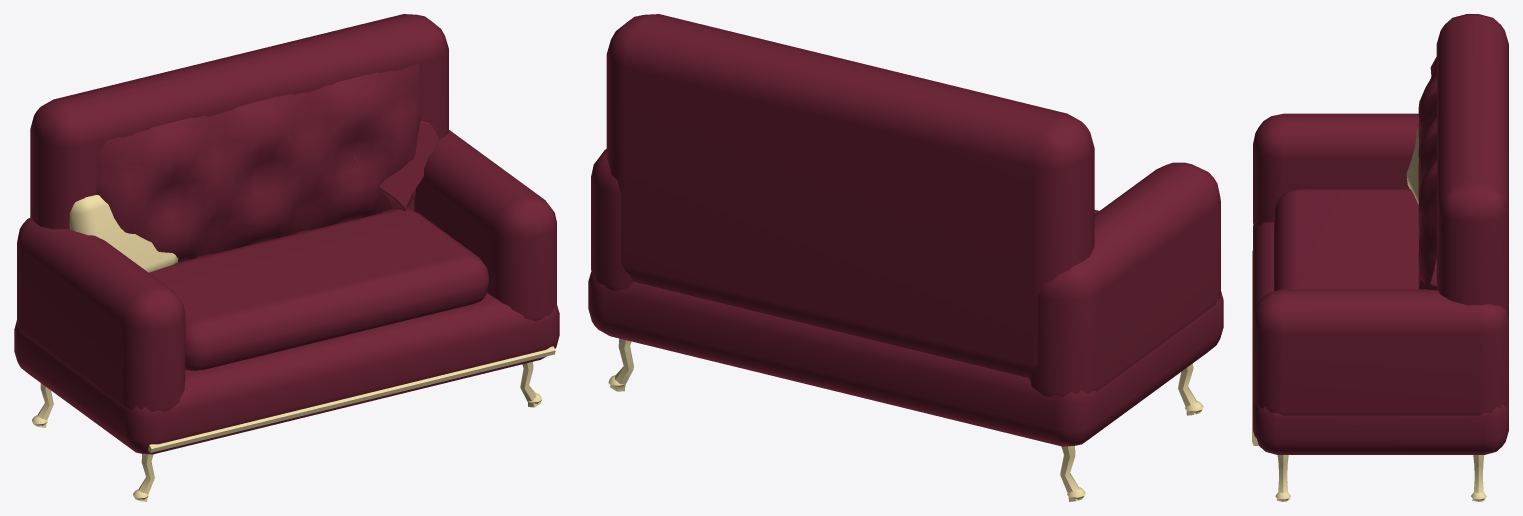
File: loveseat_velvet_tufted.glb
3 views of the same model, side by side, from view 1: azimuth 30°, elevation 25°; view 2: azimuth 150°, elevation 25°; view 3: azimuth 270°, elevation 25° (orthographic). The views are drawn at different scales.
Visible parts, largest first — view 1: loveseat_velvet_tufted; view 2: loveseat_velvet_tufted; view 3: loveseat_velvet_tufted.
Part boxes in pixels (left/top/right/bottom): loveseat_velvet_tufted: left=14, top=14, right=559, bottom=501; loveseat_velvet_tufted: left=588, top=14, right=1223, bottom=501; loveseat_velvet_tufted: left=1252, top=14, right=1508, bottom=501.
Bounding box in the file's own units: 1.6 × 1.14 × 0.8533.
